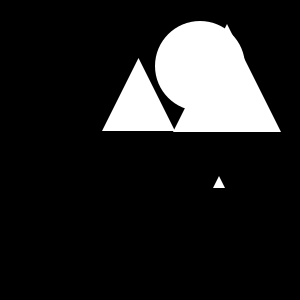rectangle: (155, 21, 245, 111)
triangle: (173, 24, 281, 132), (102, 58, 175, 131), (213, 176, 225, 188)
